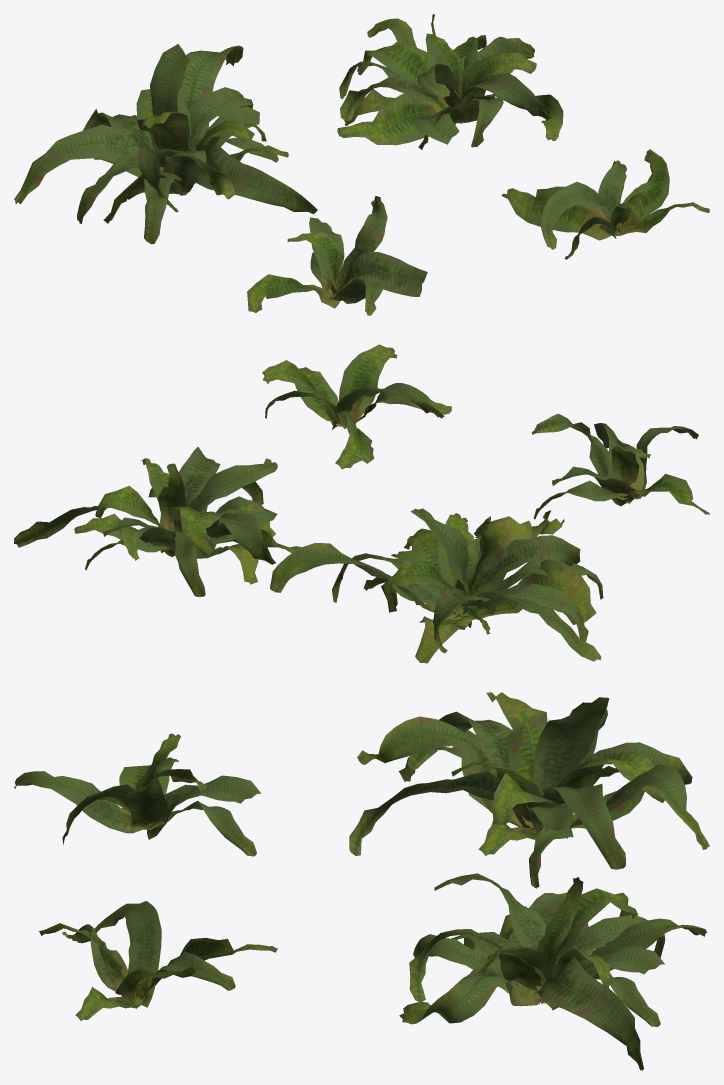
The model's file is fern.glb.
3 renders of one model, top to bottom at view 1: azimuth 30°, elevation 25°; view 2: azimuth 150°, elevation 25°; view 3: azimuth 270°, elevation 25°, orthographic. The views are drawn at different scales.
Parts seen in each view (by area): view 1: fern_02_b, fern_02_c, fern_02_d, fern_02_a; view 2: fern_02_b, fern_02_c, fern_02_d, fern_02_a; view 3: fern_02_b, fern_02_c, fern_02_a, fern_02_d.
Part boxes in pixels (left/top/right/bottom): fern_02_b: left=14, top=44, right=317, bottom=244; fern_02_c: left=337, top=14, right=563, bottom=149; fern_02_d: left=501, top=149, right=709, bottom=259; fern_02_a: left=247, top=196, right=427, bottom=315; fern_02_b: left=270, top=508, right=603, bottom=663; fern_02_c: left=14, top=447, right=301, bottom=596; fern_02_d: left=262, top=344, right=451, bottom=469; fern_02_a: left=531, top=413, right=709, bottom=519; fern_02_b: left=349, top=692, right=709, bottom=888; fern_02_c: left=399, top=873, right=707, bottom=1070; fern_02_a: left=14, top=733, right=261, bottom=856; fern_02_d: left=39, top=901, right=277, bottom=1020.
Bounding box in the file's own units: 1.97 × 0.4277 × 1.72.
1 material, 1 textured.
